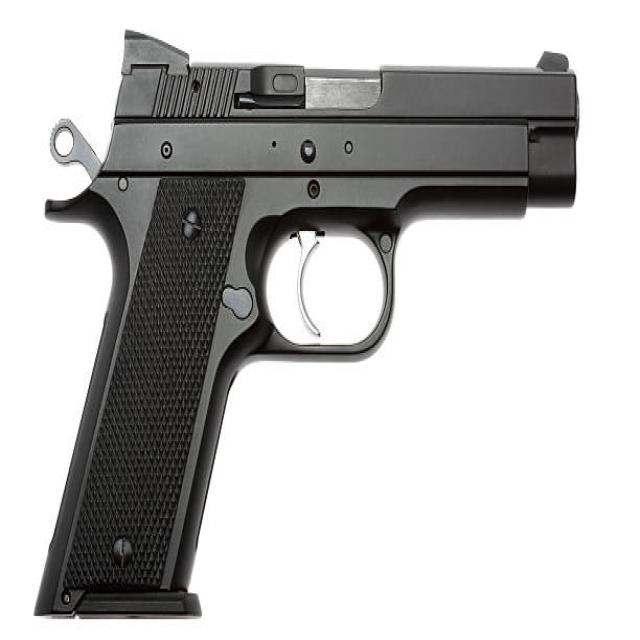pistol: (23, 26, 586, 629)
